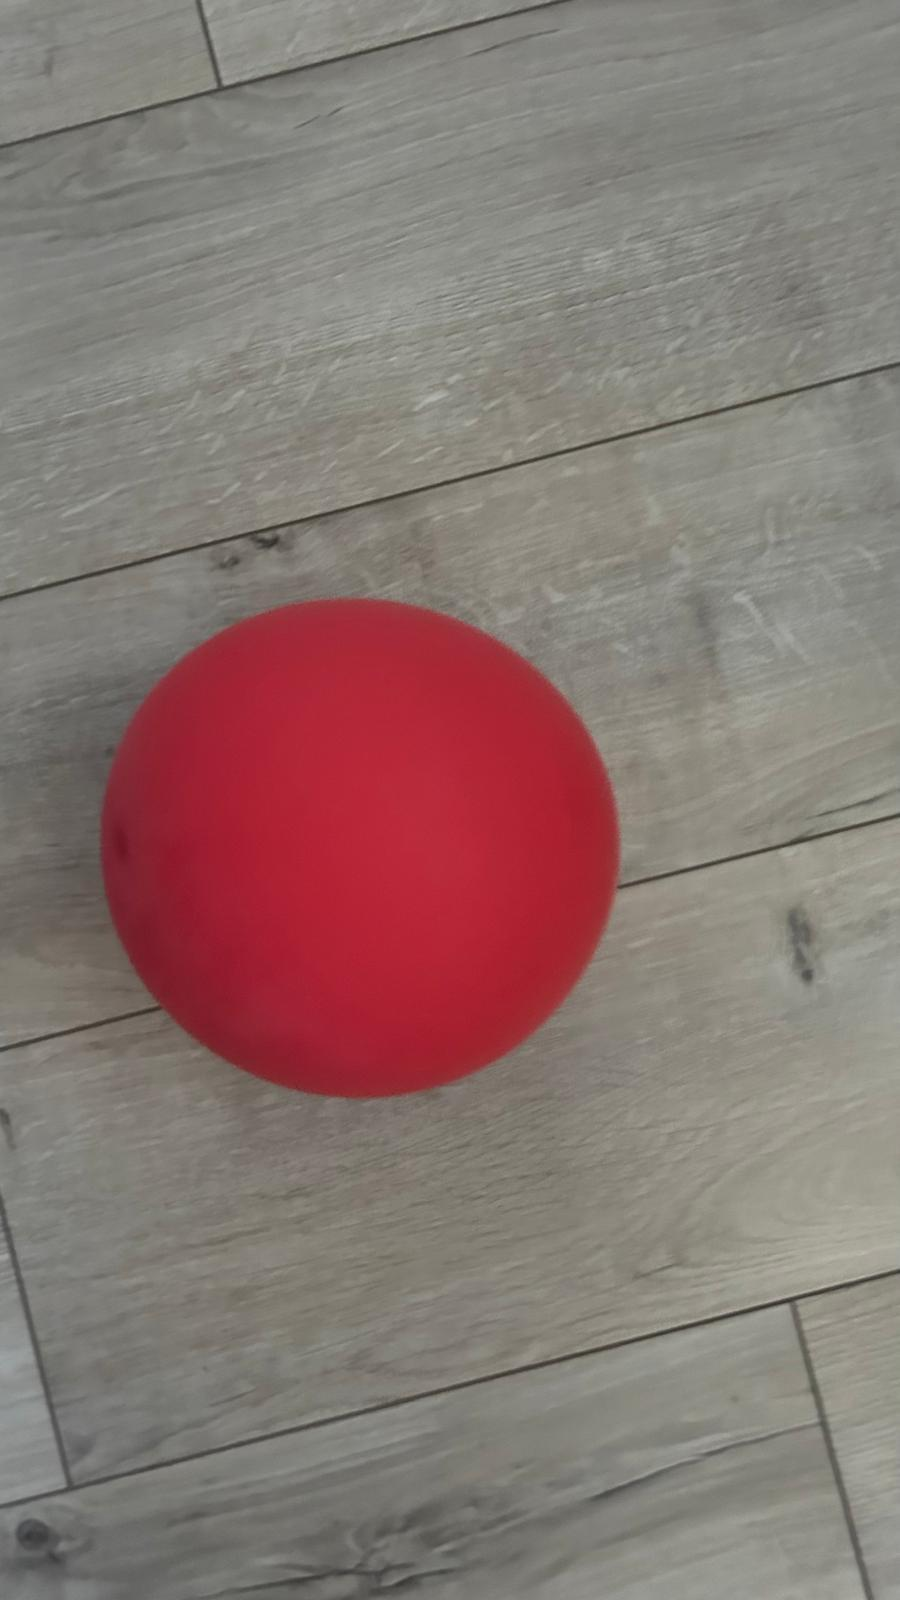red: (104, 591, 624, 1103)
